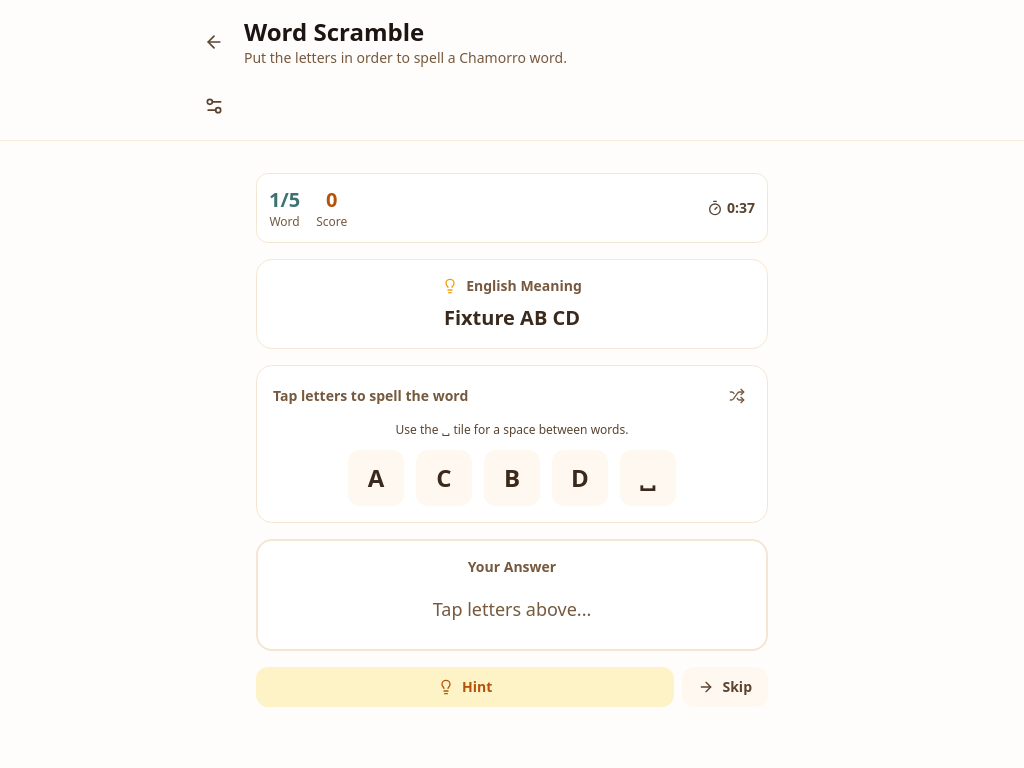
Test: Word Scramble earned points and space tiles › retains points earned by 2 consecutive correct answers through completion
The image size is (1024, 768).
Earlier steps of the test are not shown.
Later steps or results of the test are not shown.
Click the button "A". click: (376, 478)
box: [348,450,404,506]
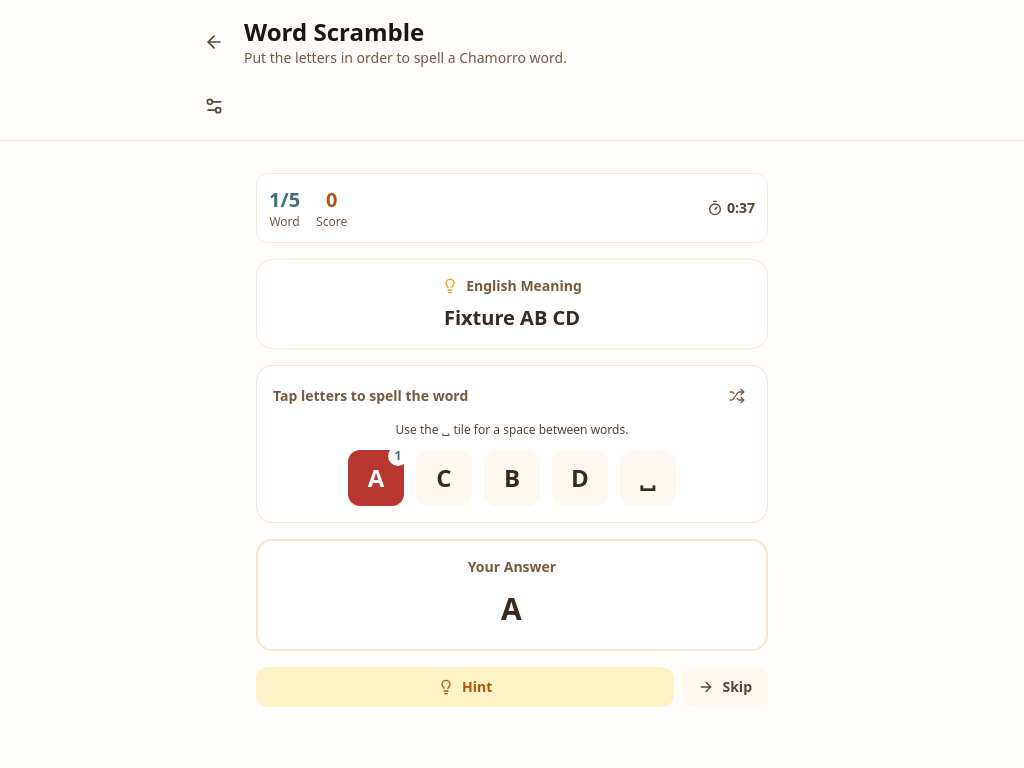
Click the button "B". click: (512, 478)
box: [484,450,540,506]
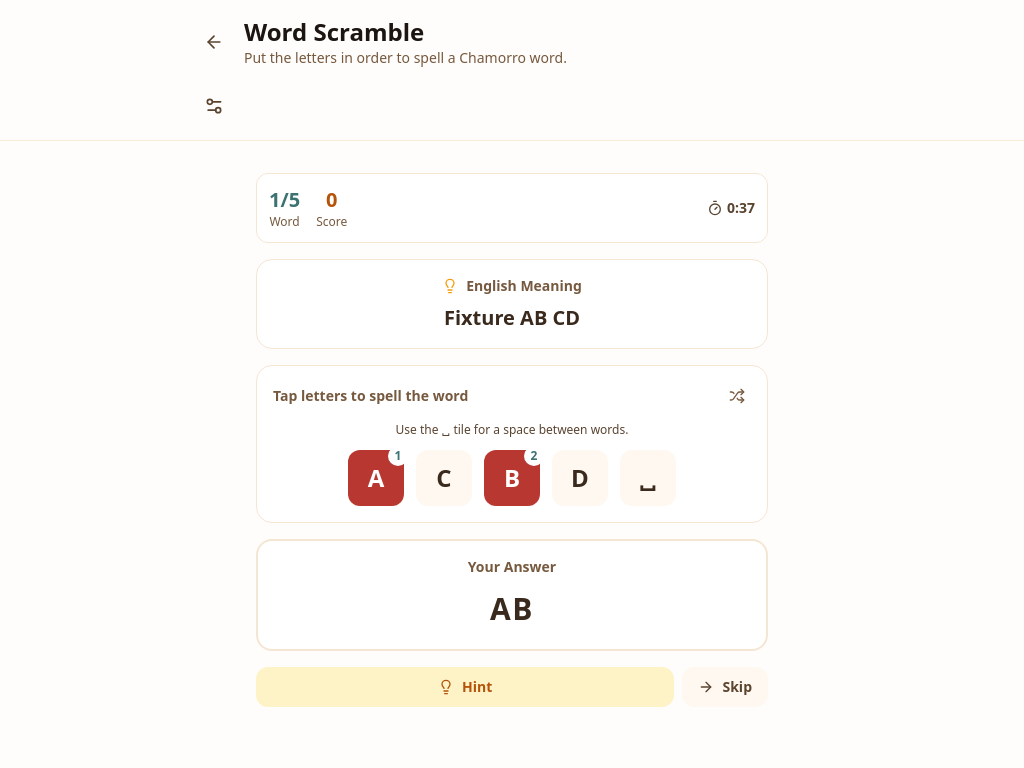
Click the button named "Space". click: (648, 478)
box: [620,450,676,506]
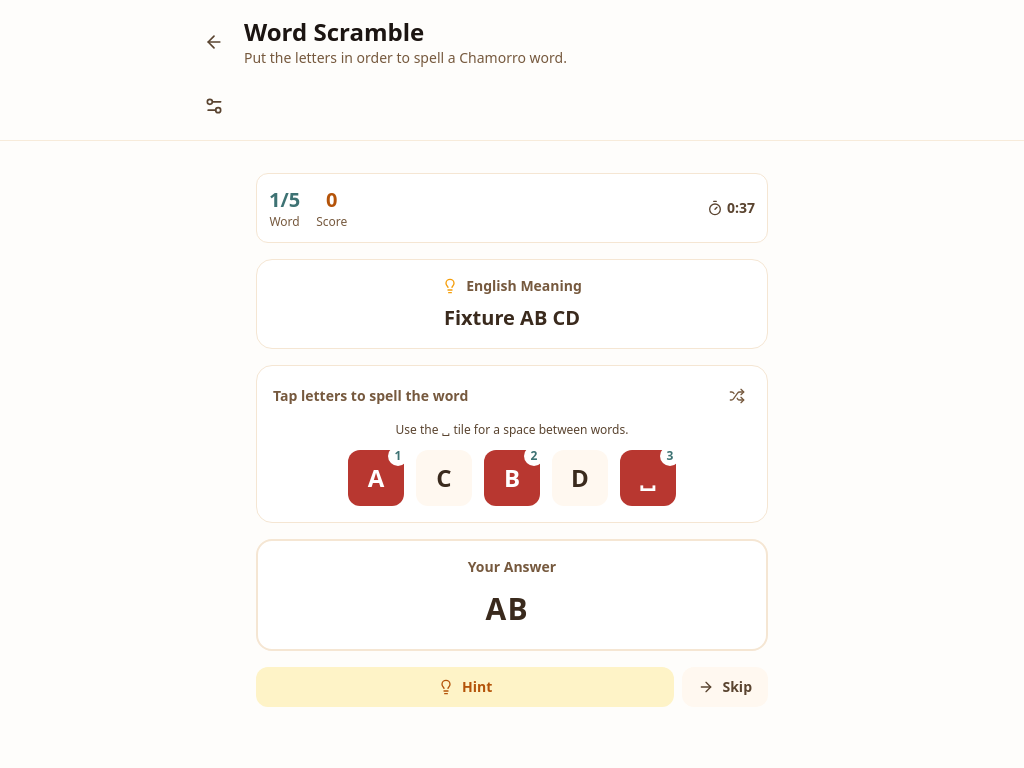
Click the button "C". click: (444, 478)
box: [416,450,472,506]
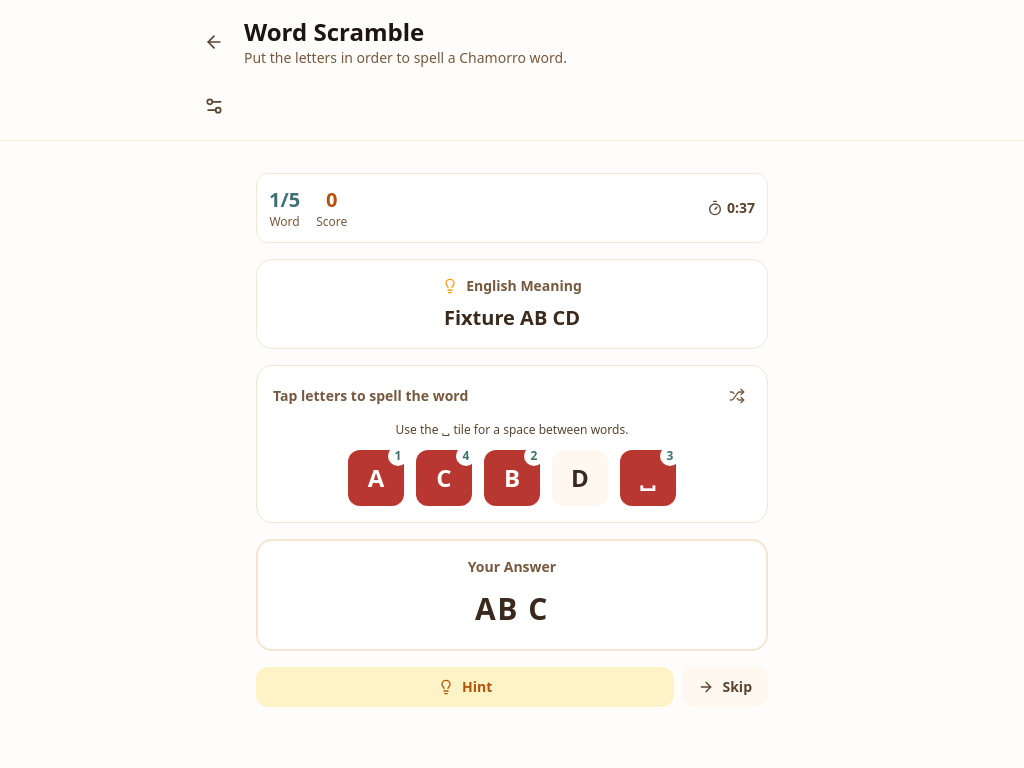
Click the button "D". click: (580, 478)
box: [552,450,608,506]
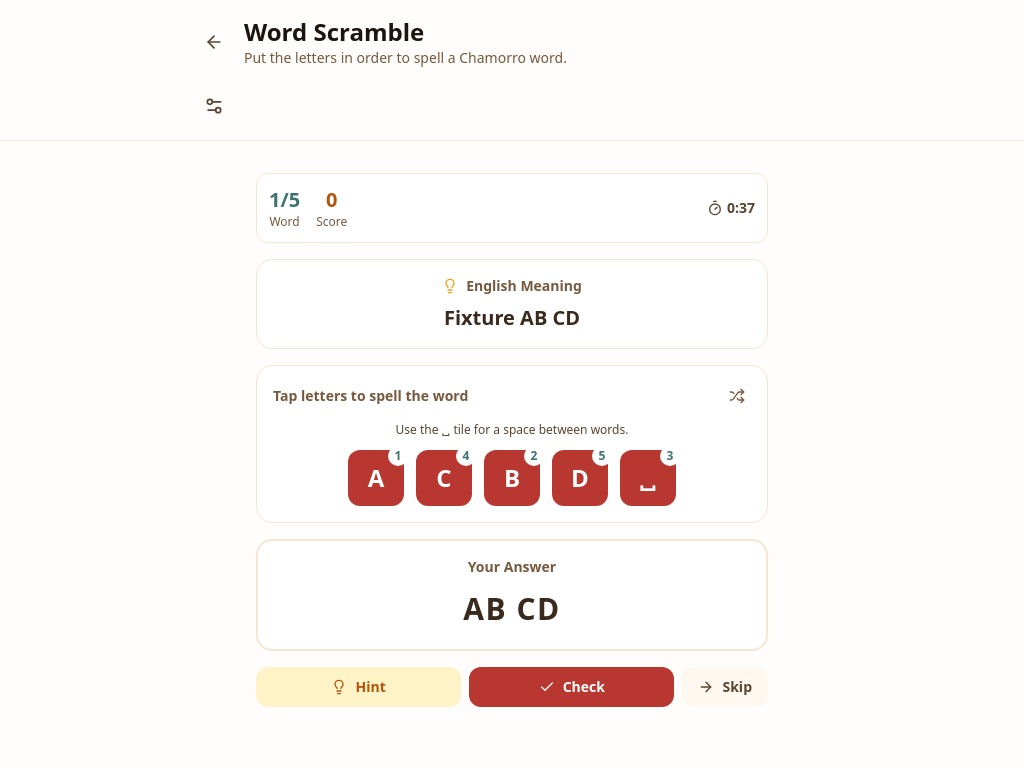
Click the button "Check". click: (572, 687)
box: [469,667,674,707]
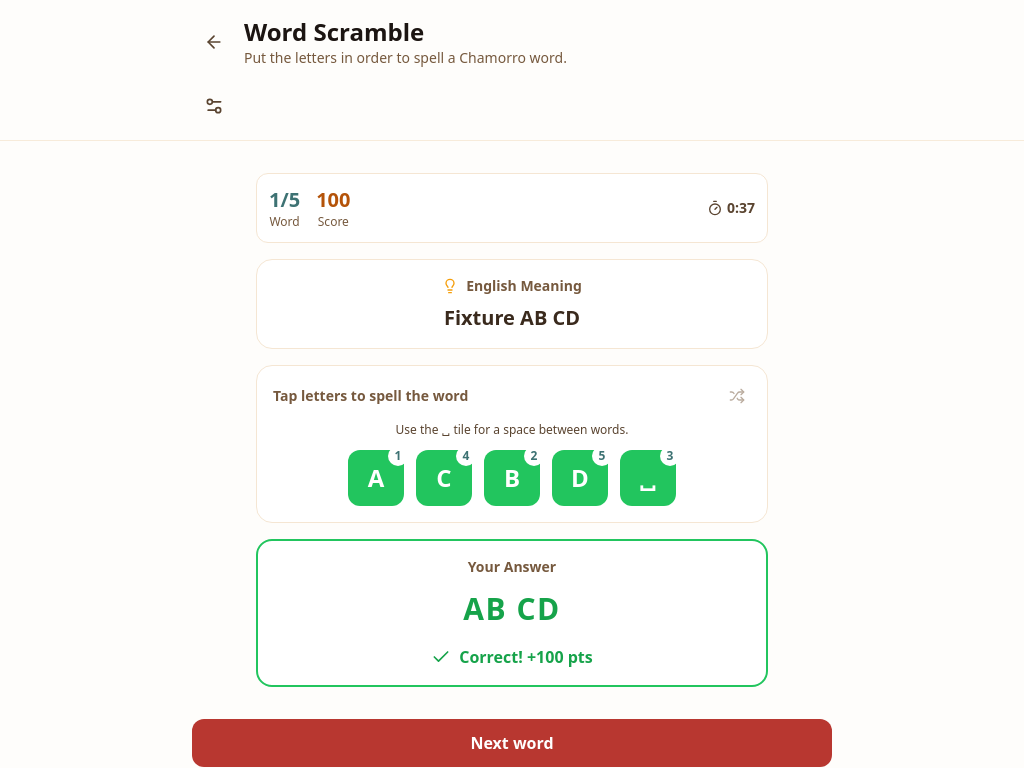
Result: the text "Correct! +100 pts" is shown at [459,645,593,669]
